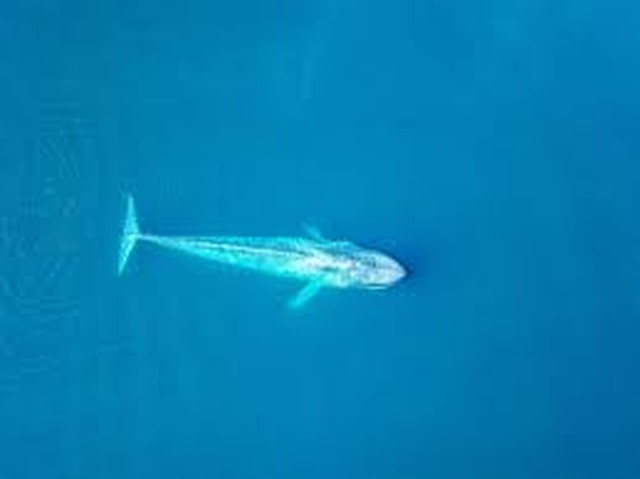whale: (107, 192, 411, 318)
